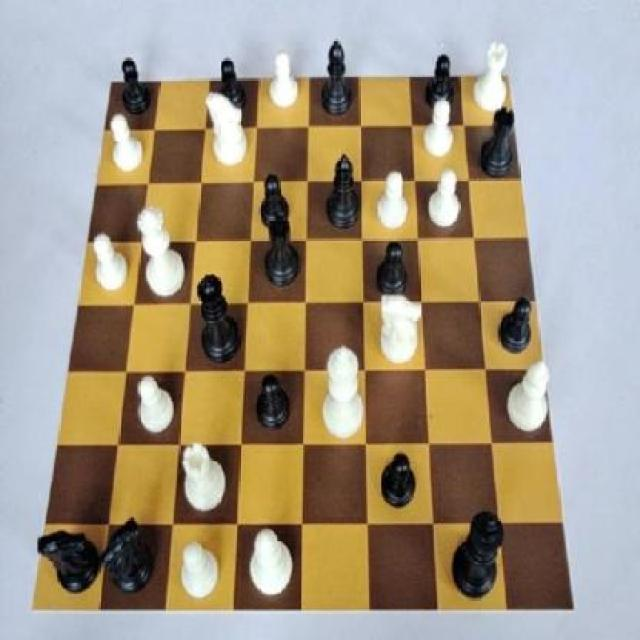bishop: (322, 145, 366, 239), (319, 28, 356, 127)
black-bishop: (451, 495, 507, 603)
black-king: (29, 516, 105, 602), (97, 514, 161, 603)
black-knight: (371, 441, 427, 517), (492, 286, 540, 363), (111, 51, 161, 117), (371, 234, 417, 305), (251, 365, 299, 433), (254, 163, 298, 232), (212, 48, 253, 120), (420, 44, 462, 112)
black-pawn: (190, 266, 248, 370)
black-queen: (258, 209, 310, 292), (476, 102, 522, 185)
black-rook: (240, 517, 296, 601), (508, 352, 552, 440)
white-bishop: (311, 335, 368, 444)
white-king: (371, 282, 428, 369), (198, 88, 252, 174)
white-knight: (174, 526, 228, 604), (83, 220, 132, 300), (368, 160, 417, 234), (102, 108, 153, 177), (126, 370, 177, 438), (263, 45, 307, 116), (422, 89, 462, 161), (428, 162, 464, 240)
white-pawn: (132, 202, 191, 300)
white-queen: (177, 438, 237, 518), (471, 32, 512, 115)
